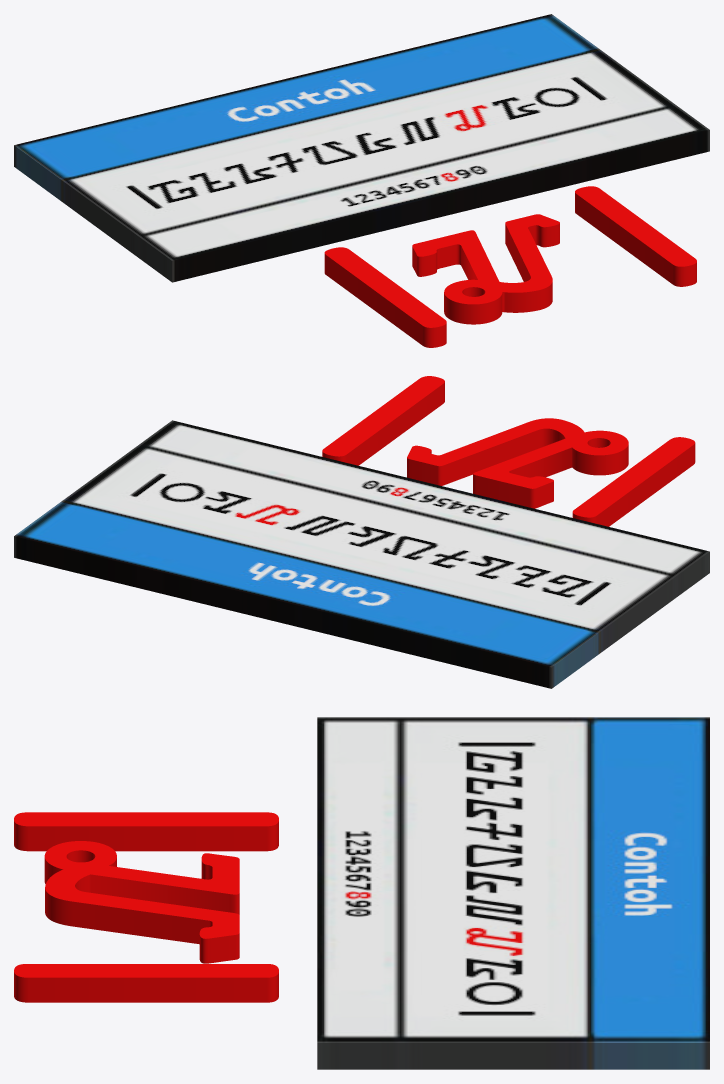
The picture shows the model from 3 angles, top to bottom: view 1: azimuth 30°, elevation 25°; view 2: azimuth 150°, elevation 25°; view 3: azimuth 270°, elevation 25°; orthographic projection. The views are drawn at different scales.
Visible parts, largest first — view 1: contoh-8-Angka, Text; view 2: contoh-8-Angka, Text; view 3: contoh-8-Angka, Text.
Part boxes in pixels (x1,y1,x2,y2): contoh-8-Angka: [14, 14, 709, 282]; Text: [324, 186, 696, 347]; contoh-8-Angka: [14, 420, 709, 688]; Text: [322, 376, 695, 526]; contoh-8-Angka: [317, 717, 709, 1069]; Text: [14, 812, 278, 1002].
Bounding box in the file's own units: 1.96 × 0.11 × 1.77.
2 materials, 1 textured.
